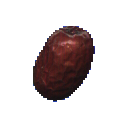gd: (18, 16, 103, 116)
